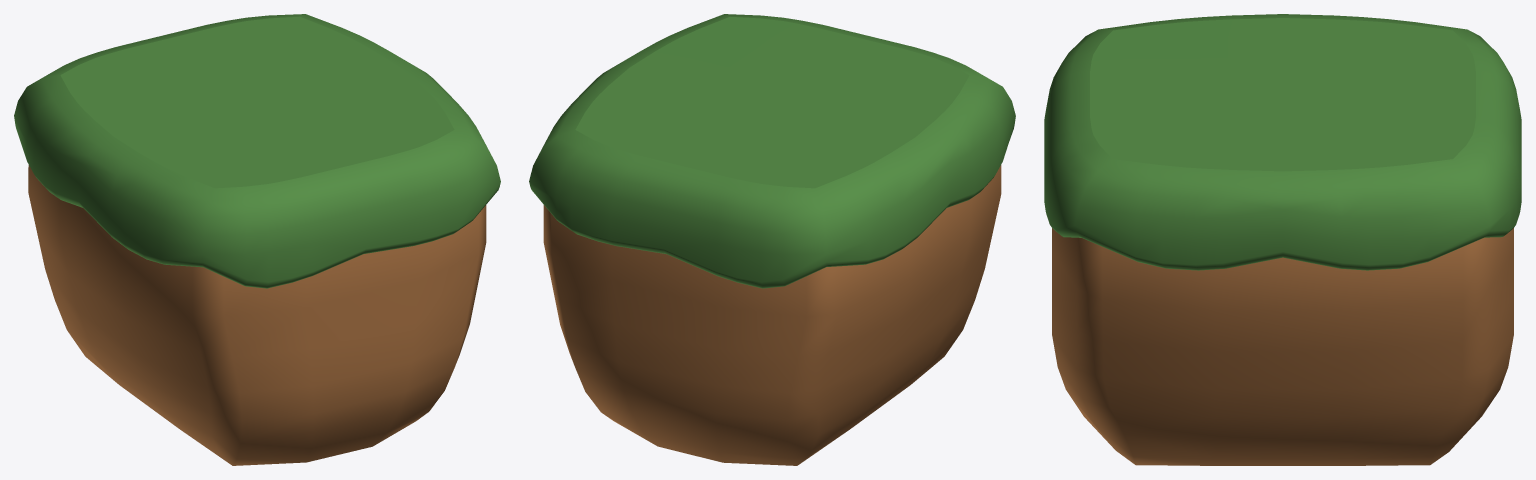
The model's file is M_flip_largeBlock.fbx.
The picture shows the model from 3 angles, left to right: view 1: azimuth 30°, elevation 25°; view 2: azimuth 150°, elevation 25°; view 3: azimuth 270°, elevation 25°; orthographic projection. The views are drawn at different scales.
Parts seen in each view (by area): view 1: grassTop1, cliffBase3; view 2: grassTop1, cliffBase3; view 3: grassTop1, cliffBase3.
Boxes of the visible parts, x1,y1,x2,y2 form: grassTop1: (14,14,500,288); cliffBase3: (28,165,486,465); grassTop1: (529,14,1015,288); cliffBase3: (543,165,1001,465); grassTop1: (1044,14,1521,270); cliffBase3: (1052,228,1513,465).
Bounding box in the file's own units: 50.01 × 39.1 × 52.64.
